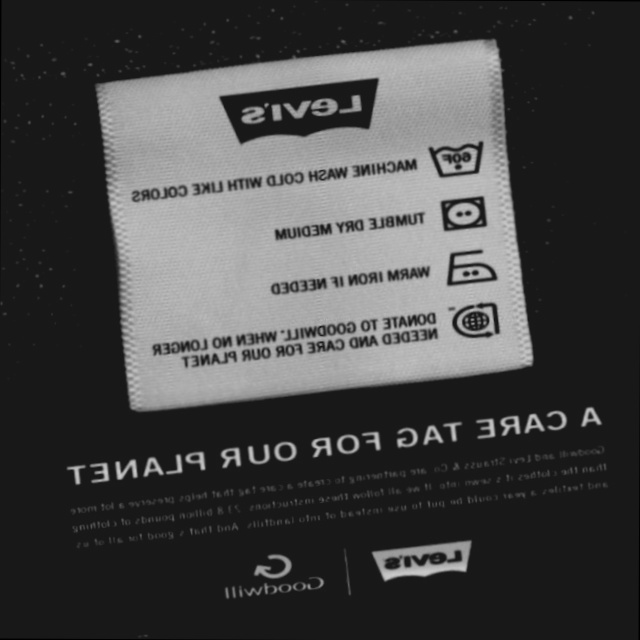30C: (415, 121, 498, 195)
iron_medium: (430, 232, 509, 302)
tumble_dry_medium: (427, 183, 501, 247)
